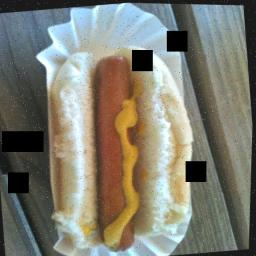hotdog: (85, 49, 142, 255), (110, 49, 140, 145)
